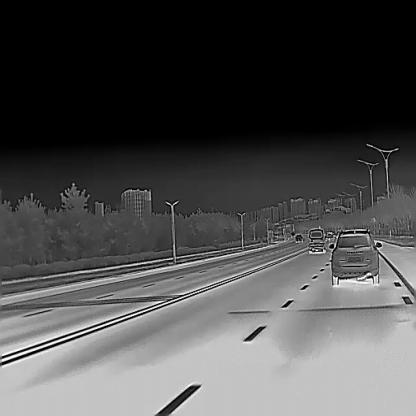car: (328, 229, 382, 285), (307, 228, 325, 254), (294, 234, 303, 242), (326, 231, 332, 239)
